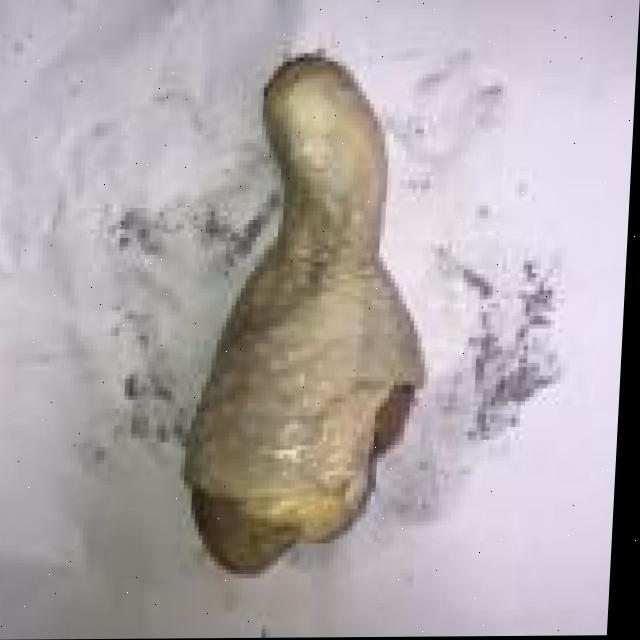leg: (207, 51, 444, 566)
